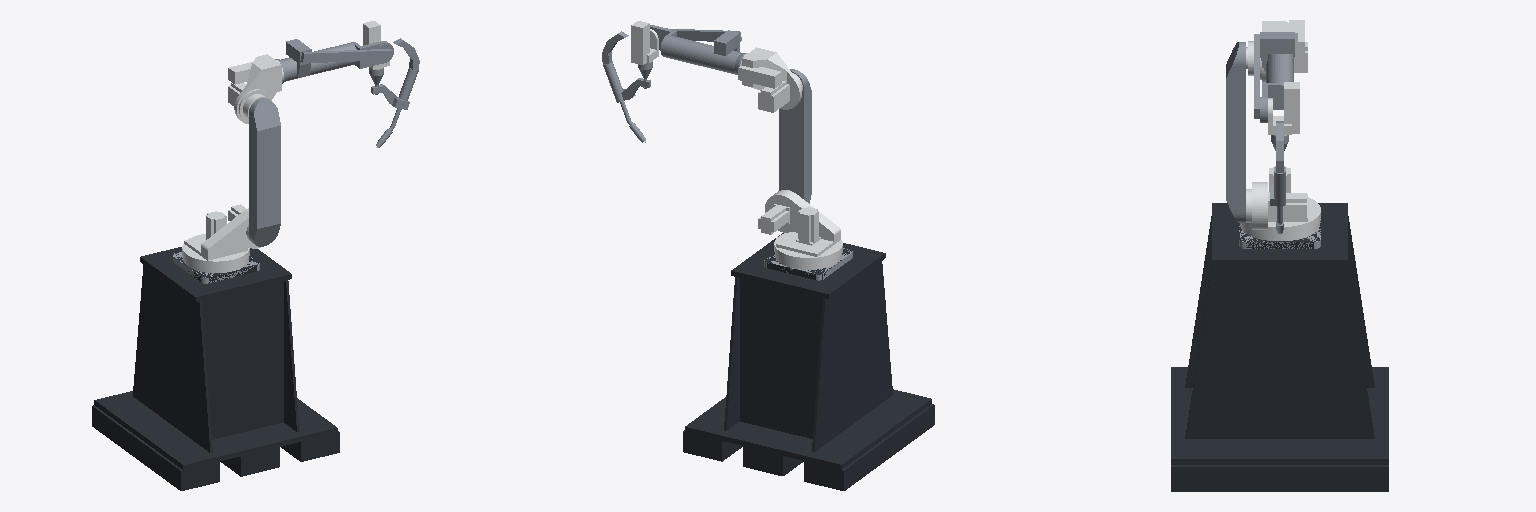
URDF robot description (rosie_1420_v1):
<?xml version="1.0"?>
<robot name="rosie_1420_v1">
  <link name="world"/>
  <link name="pedestal">
    <visual><origin xyz="0 0 0" rpy="0 0 0"/><geometry><mesh filename="package://rosie_1420_v1/meshes/pedestal.dae"/></geometry></visual>
    <collision><origin xyz="0 0 0" rpy="0 0 0"/><geometry><mesh filename="package://rosie_1420_v1/meshes/pedestal.dae"/></geometry></collision>
  </link>
  <link name="base">
    <visual><origin xyz="0 0 0" rpy="0 0 0"/><geometry><mesh filename="package://rosie_1420_v1/meshes/base.dae"/></geometry></visual>
    <collision><origin xyz="0 0 0" rpy="0 0 0"/><geometry><mesh filename="package://rosie_1420_v1/meshes/base.dae"/></geometry></collision>
  </link>
  <link name="link_1">
    <visual><origin xyz="0 0 0" rpy="0 0 0"/><geometry><mesh filename="package://rosie_1420_v1/meshes/link_1.dae"/></geometry></visual>
    <collision><origin xyz="0 0 0" rpy="0 0 0"/><geometry><mesh filename="package://rosie_1420_v1/meshes/link_1.dae"/></geometry></collision>
  </link>
  <link name="link_2">
    <visual><origin xyz="0 0 0" rpy="0 0 0"/><geometry><mesh filename="package://rosie_1420_v1/meshes/link_2.dae"/></geometry></visual>
    <collision><origin xyz="0 0 0" rpy="0 0 0"/><geometry><mesh filename="package://rosie_1420_v1/meshes/link_2.dae"/></geometry></collision>
  </link>
  <link name="link_3">
    <visual><origin xyz="0 0 0" rpy="0 0 0"/><geometry><mesh filename="package://rosie_1420_v1/meshes/link_3.dae"/></geometry></visual>
    <collision><origin xyz="0 0 0" rpy="0 0 0"/><geometry><mesh filename="package://rosie_1420_v1/meshes/link_3.dae"/></geometry></collision>
  </link>
  <link name="link_4">
    <visual><origin xyz="0 0 0" rpy="0 0 0"/><geometry><mesh filename="package://rosie_1420_v1/meshes/link_4.dae"/></geometry></visual>
    <collision><origin xyz="0 0 0" rpy="0 0 0"/><geometry><mesh filename="package://rosie_1420_v1/meshes/link_4.dae"/></geometry></collision>
  </link>
  <link name="link_5">
    <visual><origin xyz="0 0 0" rpy="0 0 0"/><geometry><mesh filename="package://rosie_1420_v1/meshes/link_5.dae"/></geometry></visual>
    <collision><origin xyz="0 0 0" rpy="0 0 0"/><geometry><mesh filename="package://rosie_1420_v1/meshes/link_5.dae"/></geometry></collision>
  </link>
  <link name="link_6">
    <visual><origin xyz="0 0 0" rpy="0 0 0"/><geometry><mesh filename="package://rosie_1420_v1/meshes/link_6.dae"/></geometry></visual>
    <collision><origin xyz="0 0 0" rpy="0 0 0"/><geometry><mesh filename="package://rosie_1420_v1/meshes/link_6.dae"/></geometry></collision>
  </link>
  <joint name="world_to_pedestal" type="fixed">
    <parent link="world"/>
    <child link="pedestal"/>
    <origin xyz="0 0 0" rpy="0 0 0"/>
  </joint>
  <joint name="pedestal_to_base" type="fixed">
    <parent link="pedestal"/>
    <child link="base"/>
    <origin xyz="0.4127 0.4 0.8636" rpy="0 0 0"/>
  </joint>
  <!-- Position limits, degrees, measured on the arm 2026-09-12 by driving each
       joint to where it stops:
           J1 -180..180   J2 -108..90    J3  -80..80
           J4 -180..180   J5 -270..60    J6 -120..120
       What they replaced were round numbers, not measurements: J2 and J3 were
       symmetric at +/-1.9 and +/-2.6 rad, J5 at +/-2.2, and J6 at +/-6.283,
       which is two full turns on a wrist that reaches 120 degrees. J1 and J4
       were already +/-pi and are unchanged.

       J5 is deliberately asymmetric and wider than a half turn: -270..60. A
       reader checking it against a +/-pi range will find the lower bound
       outside, and that is the arm, not a typo.

       Changing this file is a cell-wide change. It is copied byte-for-byte to
       realtime-core/natsbridge/rosie_1420_v1_factory.urdf, embedded in the
       pair owner, and hashed: pairConfigFactoryURDFSHA256 pins it, the pair's
       canonical snapshot carries these very numbers, and the home profile key
       is derived from both. All three move together. -->
  <joint name="J1" type="revolute">
    <parent link="base"/>
    <child link="link_1"/>
    <origin xyz="0 0 0.0294" rpy="0 0 0"/>
    <axis xyz="0 0 1"/>
    <calibration rising="0"/>
    <limit lower="-6.265732015" upper="6.265732015" effort="100" velocity="3.14159265"/>
  </joint>
  <joint name="J2" type="revolute">
    <parent link="link_1"/>
    <child link="link_2"/>
    <origin xyz="0.16 -0.1255 0.15" rpy="0 0 0"/>
    <axis xyz="0 -1 0"/>
    <calibration rising="0"/>
    <limit lower="-1.9" upper="1.9" effort="100" velocity="3.14159265"/>
  </joint>
  <joint name="J3" type="revolute">
    <parent link="link_2"/>
    <child link="link_3"/>
    <origin xyz="0 0 0.6" rpy="0 0 0"/>
    <axis xyz="0 1 0"/>
    <calibration rising="0"/>
    <limit lower="-4.2" upper="1.53" effort="100" velocity="3.14159265"/>
  </joint>
  <joint name="J4" type="revolute">
    <parent link="link_3"/>
    <child link="link_4"/>
    <origin xyz="0.159 0.125499999 0.105000002" rpy="0 0 0"/>
    <axis xyz="1 0 0"/>
    <calibration rising="0"/>
    <limit lower="-6.265732015" upper="6.265732015" effort="50" velocity="17.45329252"/>
  </joint>
  <joint name="J5" type="revolute">
    <parent link="link_4"/>
    <child link="link_5"/>
    <origin xyz="0.513989 -0.0425 0" rpy="0 0 0"/>
    <axis xyz="0 1 0"/>
    <calibration rising="0"/>
    <limit lower="-6.265732015" upper="6.265732015" effort="50" velocity="3.14159265"/>
  </joint>
  <joint name="J6" type="revolute">
    <parent link="link_5"/>
    <child link="link_6"/>
    <origin xyz="0 0.0425 -0.0933" rpy="0 0 0"/>
    <axis xyz="0 0 -1"/>
    <calibration rising="0"/>
    <limit lower="-10" upper="10" effort="25" velocity="31.41592654"/>
  </joint>
  <!-- Rosie 1420 owns this torch frame in its own URDF. Both models expose the
       same rotated end_effector/tool0 orientation: rpy (pi, pi/4, -pi), placing
       tool X 45 degrees down and forward. tool0 is coincident with end_effector
       so planning, rendering, and the visible torch coordinate frame agree.

       The translation equals Rosie 1400's, and that is a measurement rather
       than a copy: link_6 carries the identical mig_torch_v1 at the identical
       place on both models. The two link_6.dae files have the same 867-point
       vertex set, and this bundle's OWN Fusion export puts mig_torch_v1_1 at
       link_6's origin with a bounding box matching that mesh to 10 um. One
       torch, one tip, two robots. Measured 2026-09-12 from the meshes: the
       last 213.3 mm of the gun is a tube whose centreline runs 0.061 degrees
       off tool +X, and this origin sits 0.16 mm off that centreline, 0.01 mm
       short of the tube end, and 11.11 mm from the nearest vertex, which is
       the tube radius.

       Until 2026-09-12 the translation was (0.090505385, 0.001675337 negated,
       0.406250448 negated): the centre of the bottom face of the torch's
       axis-aligned bounding box, x and y at the box centre and z at the box
       minimum, all three matching to under a nanometre. That rule finds the
       tip of a STRAIGHT tool, and this gun is a swan neck, so its tip is at a
       corner of the box and not the middle of the bottom face. The frame sat
       55.7 mm off the gun, in free air. Nothing that jogs or teaches saw it,
       because the orientation was already right and a pure translation of
       86.20 mm cancels in any relative move; the weld planner computes
       absolute TCP targets from CAD and cannot absorb it. -->
  <link name="end_effector">
    <visual>
      <origin xyz="0 0 0" rpy="0 0 0"/>
      <geometry><mesh filename="package://rosie_1420_v1/meshes/end_effector.dae"/></geometry>
    </visual>
    <collision>
      <origin xyz="0 0 0" rpy="0 0 0"/>
      <geometry><mesh filename="package://rosie_1420_v1/meshes/end_effector.dae"/></geometry>
    </collision>
  </link>
  <link name="tool0"/>
  <joint name="link_6_to_end_effector" type="fixed">
    <parent link="link_6"/>
    <child link="end_effector"/>
    <origin xyz="0.004682724 0 -0.398382724" rpy="3.141592654 0.785398163 -3.141592654"/>
  </joint>
  <joint name="end_effector_to_tool0" type="fixed">
    <parent link="end_effector"/>
    <child link="tool0"/>
    <origin xyz="0 0 0" rpy="0 0 0"/>
  </joint>
  <transmission name="J1_transmission">
    <type>transmission_interface/SimpleTransmission</type>
    <joint name="J1">
      <hardwareInterface>hardware_interface/PositionJointInterface</hardwareInterface>
    </joint>
    <actuator name="J1_motor">
      <hardwareInterface>hardware_interface/PositionJointInterface</hardwareInterface>
      <mechanicalReduction numerator="100" denominator="1">100</mechanicalReduction>
    </actuator>
  </transmission>
  <transmission name="J2_transmission">
    <type>transmission_interface/SimpleTransmission</type>
    <joint name="J2">
      <hardwareInterface>hardware_interface/PositionJointInterface</hardwareInterface>
    </joint>
    <actuator name="J2_motor">
      <hardwareInterface>hardware_interface/PositionJointInterface</hardwareInterface>
      <mechanicalReduction numerator="100" denominator="1">100</mechanicalReduction>
    </actuator>
  </transmission>
  <transmission name="J3_transmission">
    <type>transmission_interface/SimpleTransmission</type>
    <joint name="J3">
      <hardwareInterface>hardware_interface/PositionJointInterface</hardwareInterface>
    </joint>
    <actuator name="J3_motor">
      <hardwareInterface>hardware_interface/PositionJointInterface</hardwareInterface>
      <mechanicalReduction numerator="100" denominator="1">100</mechanicalReduction>
    </actuator>
  </transmission>
  <transmission name="J4_transmission">
    <type>transmission_interface/SimpleTransmission</type>
    <joint name="J4">
      <hardwareInterface>hardware_interface/PositionJointInterface</hardwareInterface>
    </joint>
    <actuator name="J4_motor">
      <hardwareInterface>hardware_interface/PositionJointInterface</hardwareInterface>
      <mechanicalReduction numerator="18" denominator="1">18</mechanicalReduction>
    </actuator>
  </transmission>
  <transmission name="J5_transmission">
    <type>transmission_interface/SimpleTransmission</type>
    <joint name="J5">
      <hardwareInterface>hardware_interface/PositionJointInterface</hardwareInterface>
    </joint>
    <actuator name="J5_motor">
      <hardwareInterface>hardware_interface/PositionJointInterface</hardwareInterface>
      <mechanicalReduction numerator="100" denominator="1">100</mechanicalReduction>
    </actuator>
  </transmission>
  <transmission name="J6_transmission">
    <type>transmission_interface/SimpleTransmission</type>
    <joint name="J6">
      <hardwareInterface>hardware_interface/PositionJointInterface</hardwareInterface>
    </joint>
    <actuator name="J6_motor">
      <hardwareInterface>hardware_interface/PositionJointInterface</hardwareInterface>
      <mechanicalReduction numerator="10" denominator="1">10</mechanicalReduction>
    </actuator>
  </transmission>
</robot>

--- Facts derived from the render (not from the file) ---
3 views of the same robot in one strip: view 1: azimuth 30°, elevation 25°; view 2: azimuth 150°, elevation 25°; view 3: azimuth 270°, elevation 25° (orthographic).
Model rosie_1420_v1 with 11 links and 10 joints (6 revolute, 4 fixed), rooted at world, posed all joints at 0.
Links seen in each view (by area): view 1: pedestal, link_2, link_1, link_4, link_3, link_6; view 2: pedestal, link_1, link_2, link_4, link_3, link_6, link_5; view 3: pedestal, link_2, link_1, link_4, link_3, link_6, link_5.
Boxes of the visible links, x1=… form: pedestal: x1=92, y1=247, x2=339, y2=490; link_2: x1=249, y1=98, x2=280, y2=246; link_1: x1=182, y1=204, x2=260, y2=272; link_4: x1=275, y1=39, x2=393, y2=83; link_3: x1=228, y1=54, x2=283, y2=123; link_6: x1=369, y1=38, x2=419, y2=147; pedestal: x1=683, y1=233, x2=934, y2=490; link_1: x1=758, y1=190, x2=842, y2=269; link_2: x1=779, y1=69, x2=811, y2=203; link_4: x1=650, y1=25, x2=746, y2=74; link_3: x1=738, y1=47, x2=802, y2=112; link_6: x1=602, y1=31, x2=652, y2=142; link_5: x1=631, y1=21, x2=658, y2=64; pedestal: x1=1171, y1=203, x2=1388, y2=491; link_2: x1=1226, y1=42, x2=1245, y2=222; link_1: x1=1240, y1=167, x2=1320, y2=240; link_4: x1=1254, y1=32, x2=1294, y2=122; link_3: x1=1246, y1=20, x2=1307, y2=82; link_6: x1=1270, y1=121, x2=1288, y2=233; link_5: x1=1268, y1=82, x2=1299, y2=135.
Size in the robot's own frame: 1.46 by 0.8 by 1.86 metres.
Meshes: 9 distinct files referenced, 9 mesh visuals loaded (9 Collada DAE).
